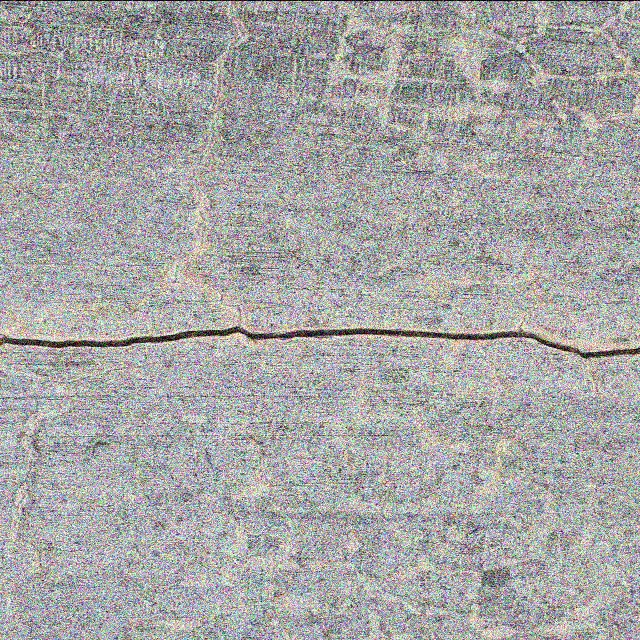SurfaceCrack: (1, 268, 640, 408)
